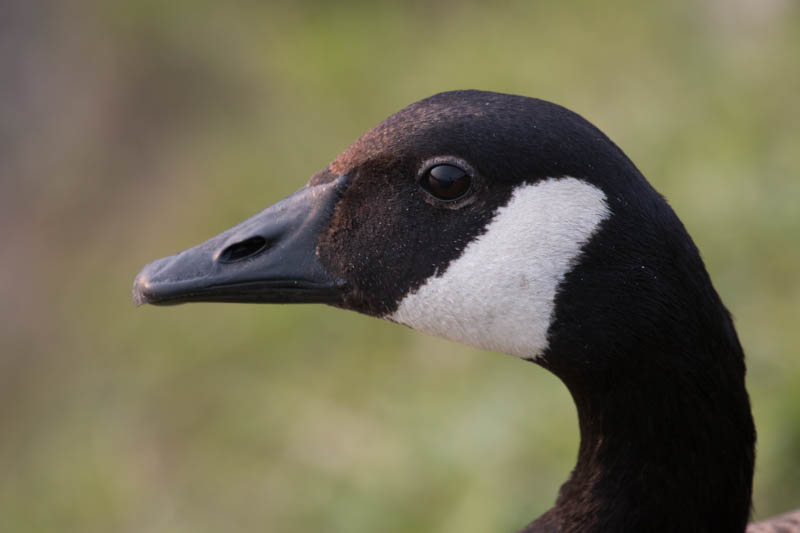goose-head: (130, 89, 680, 365)
